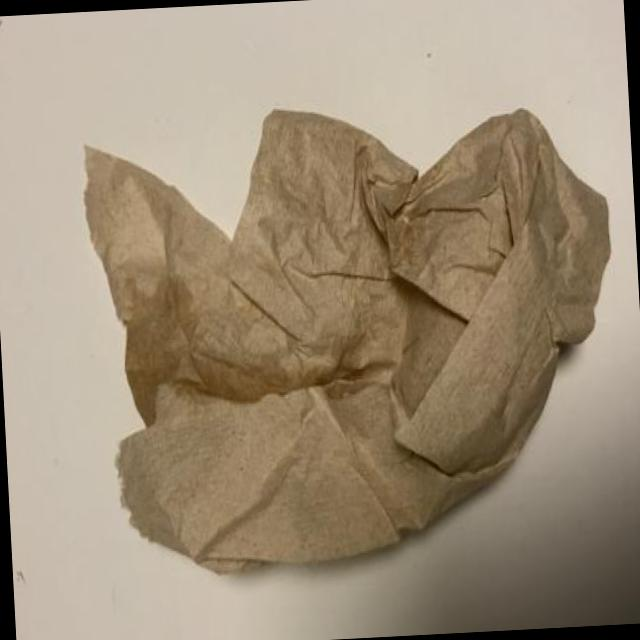giay: (85, 110, 611, 569)
